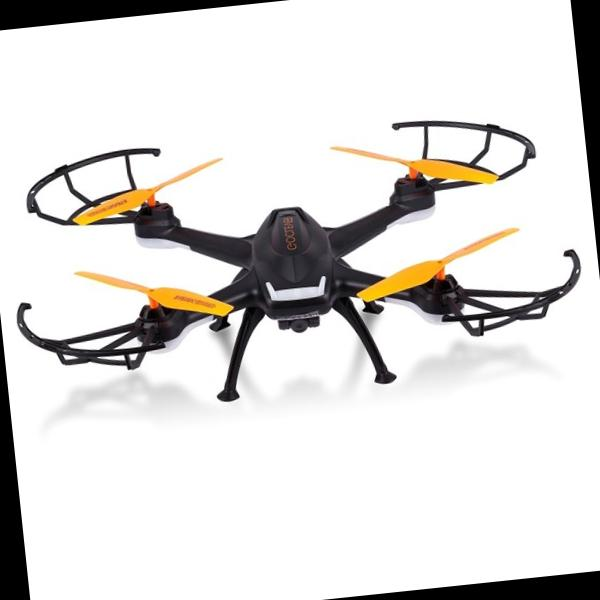drone: (0, 105, 593, 408)
